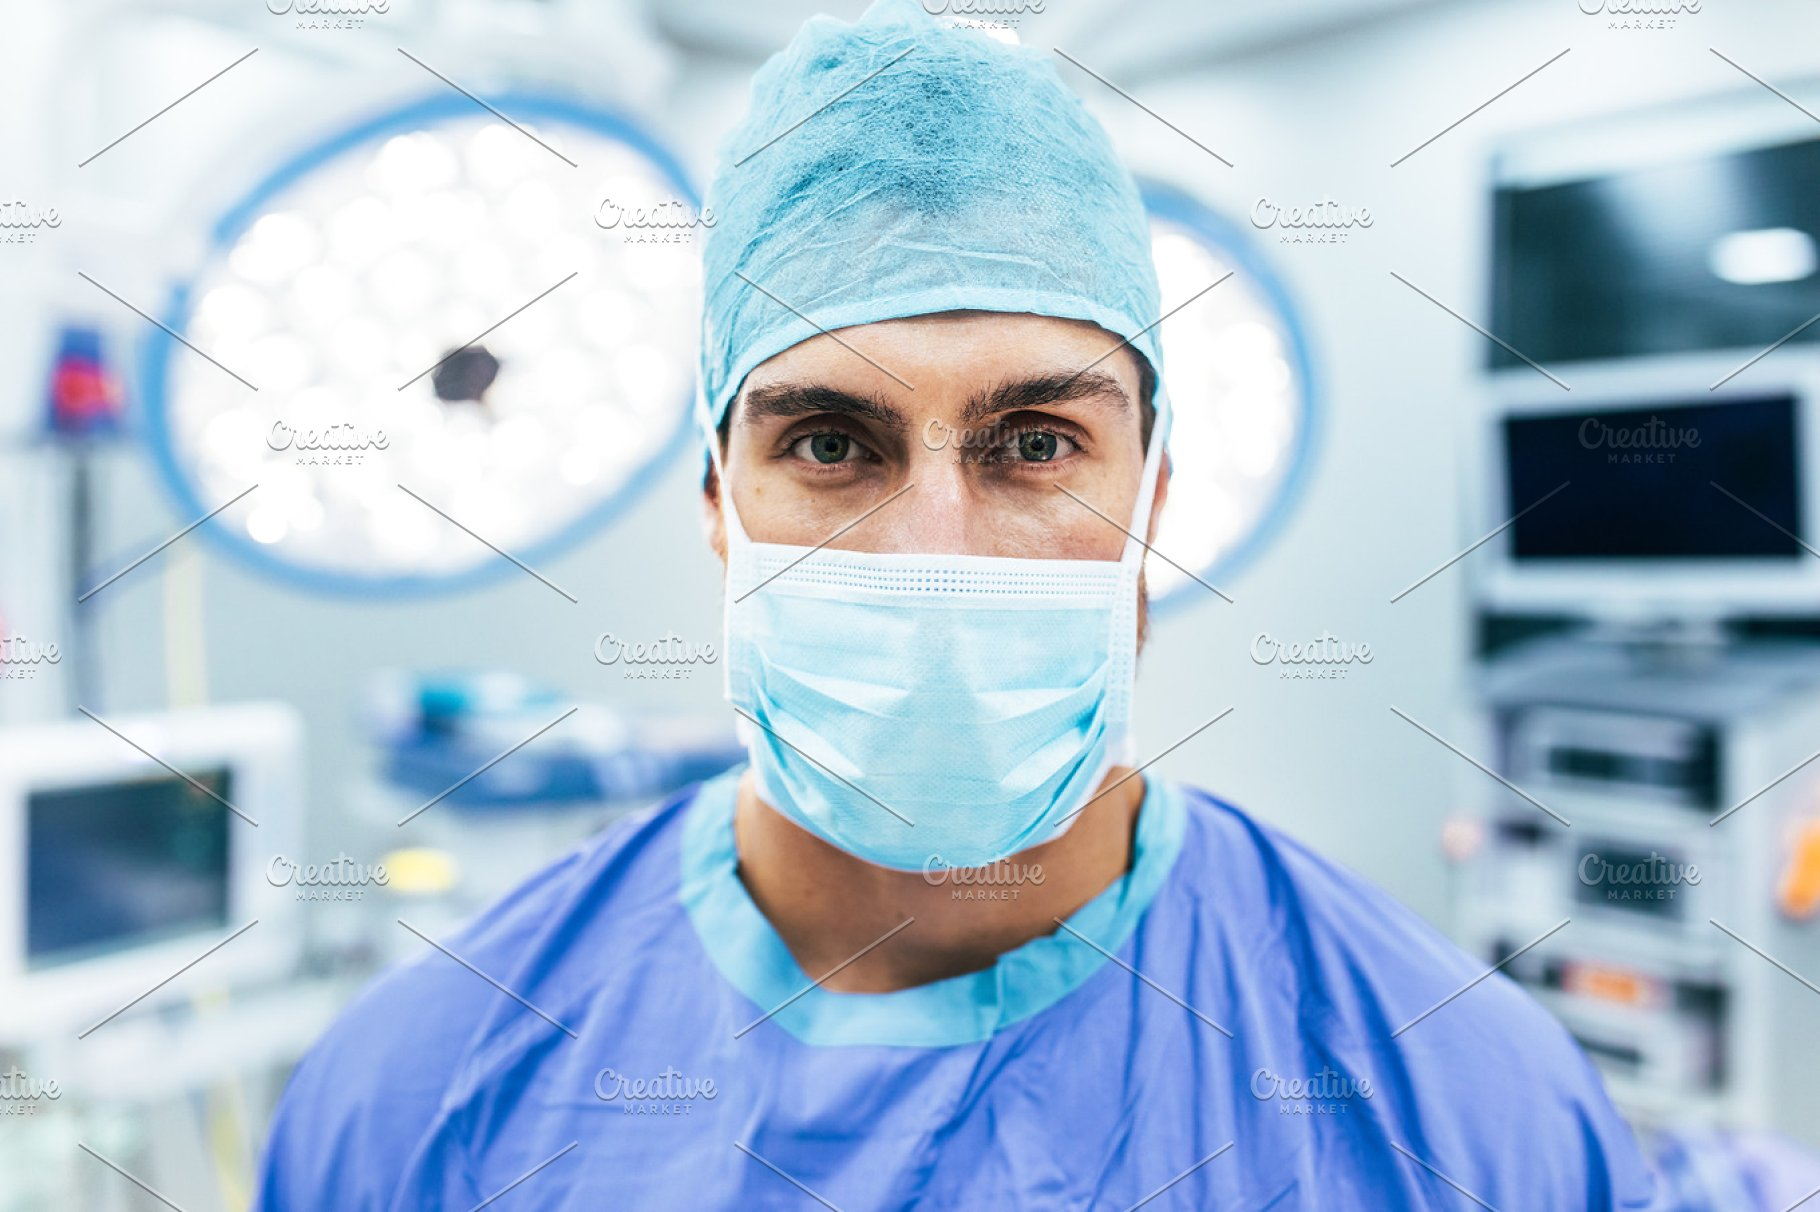mask: (745, 553, 1145, 872)
